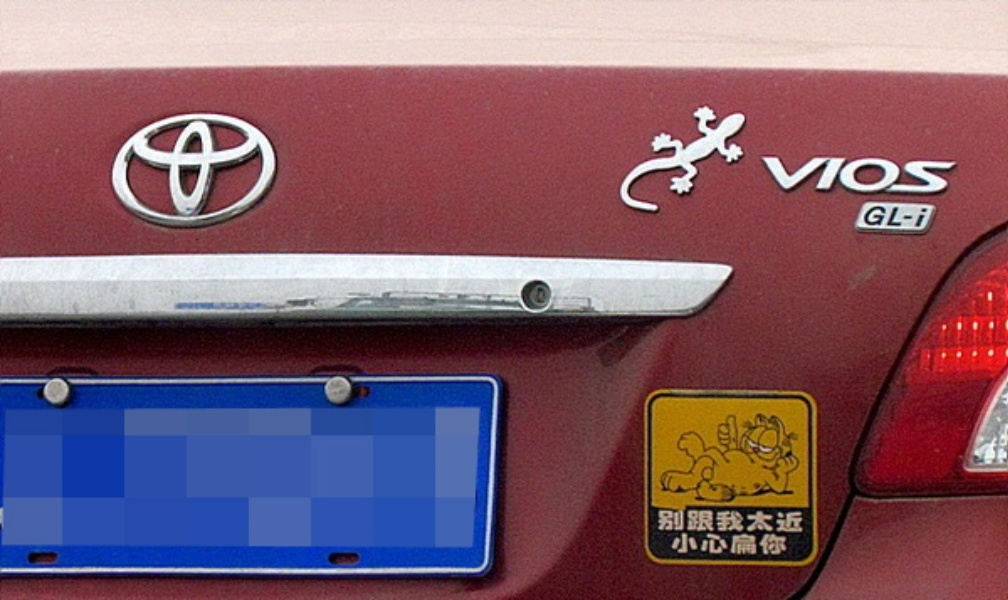text: (769, 153, 784, 199), (785, 153, 800, 199), (801, 153, 816, 199), (817, 153, 832, 199), (833, 153, 848, 199), (849, 153, 864, 199), (865, 153, 880, 199), (881, 153, 896, 199), (897, 153, 912, 199), (913, 153, 928, 199), (929, 153, 944, 199), (757, 153, 768, 199), (945, 153, 956, 199), (657, 510, 672, 533), (673, 510, 688, 533), (689, 510, 704, 533), (705, 510, 720, 533), (721, 510, 736, 533), (737, 510, 752, 533), (753, 510, 768, 533), (769, 510, 784, 533), (785, 510, 800, 533), (881, 204, 896, 227), (897, 204, 912, 227), (913, 204, 928, 227), (673, 533, 688, 555), (689, 533, 704, 555), (705, 533, 720, 555), (721, 533, 736, 555), (737, 533, 752, 555), (753, 533, 768, 555), (769, 533, 784, 555), (866, 204, 880, 227), (801, 510, 804, 533), (785, 533, 787, 555), (671, 533, 672, 555)
